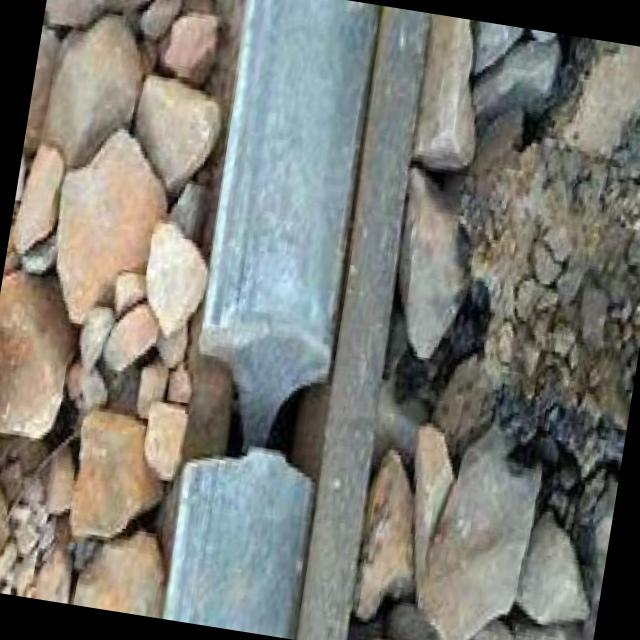defective: (42, 237, 550, 618)
